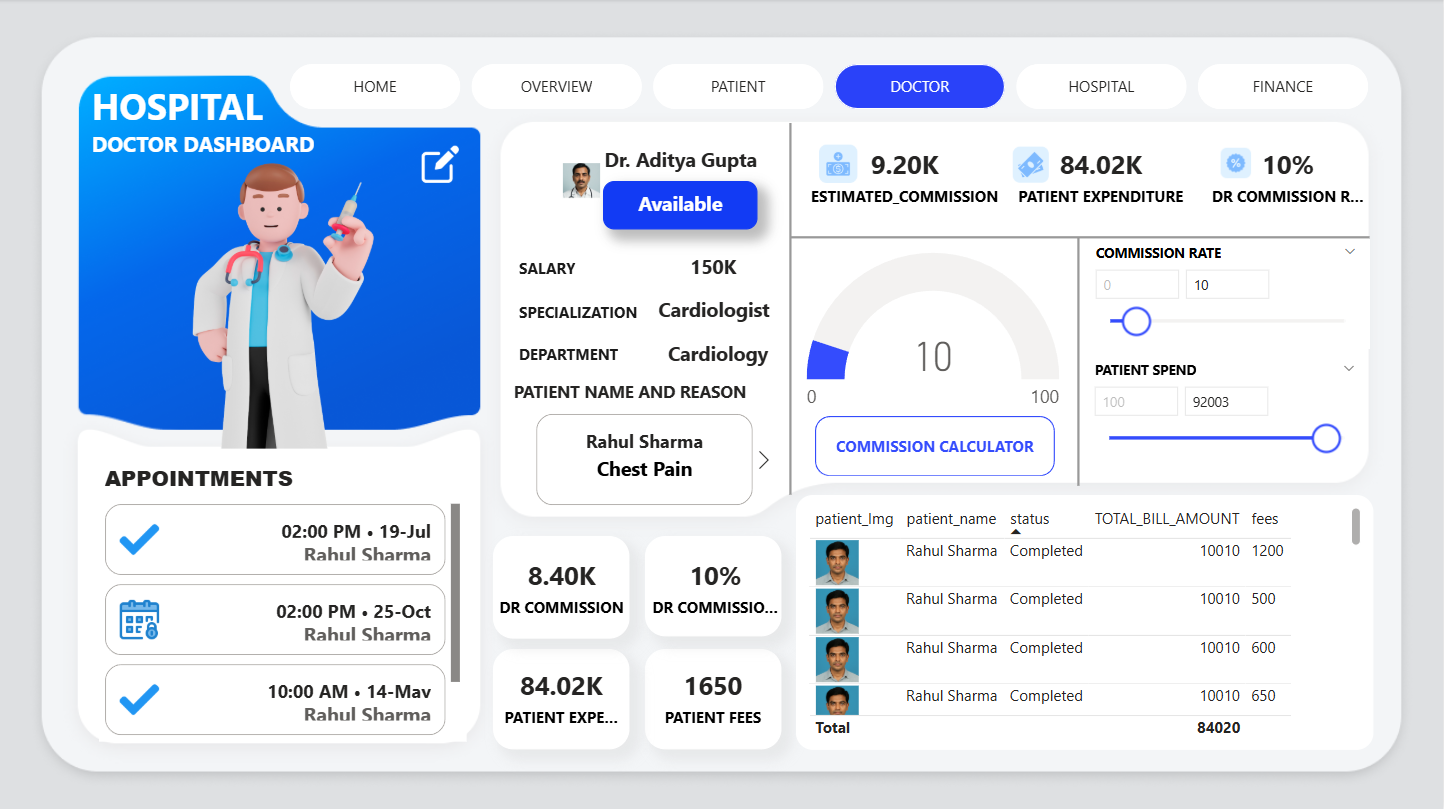

What the dashboard file says about the page in this screenshot:
{"tool":"powerbi","page":{"name":"DOCTOR","canvas":[1280,720],"ordinal":3},"visuals":[{"type":"textbox","box":[76.6,67.5,221.8,101.2],"z":0,"group":"g1"},{"type":"image","box":[87.8,127.5,314,276],"z":0},{"type":"shape","title":"PATIENTS","box":[187.8,130.4,231.8,410],"z":0,"group":"g2"},{"type":"image","box":[369.4,124.9,42.8,43.8],"z":1000,"group":"g1"},{"type":"image","box":[368.7,129.5,39.1,66.4],"z":1000,"group":"g2"},{"type":"shape","box":[572.2,576.1,121.1,89.3],"z":1000},{"type":"advancedSlicerVisual","fields":{"Values":["patient_details.doctor_name"]},"box":[195.1,189.5,224.5,344.5],"z":2000,"group":"g2"},{"type":"shape","box":[437,576.1,121.1,89.3],"z":2000},{"type":"textbox","box":[195.1,143.1,99.1,40],"z":3000,"group":"g2"},{"type":"shape","box":[436.8,476.5,121,91],"z":3000},{"type":"group","id":"g1","title":"Group 1","box":[76.6,67.5,335.6,101.2],"z":4000},{"type":"shape","box":[572.2,476.2,121.1,89.3],"z":5000},{"type":"card","fields":{"Values":["_MEASURES.TOTAL_BILL_AMOUNT"]},"box":[437.2,577,120.9,82.6],"z":6000},{"type":"card","fields":{"Values":["_MEASURES.DOCTOR_FEES"]},"box":[570.2,583.1,124,69.5],"z":7000},{"type":"card","fields":{"Values":["_MEASURES.DR_COMMISSION RATE"]},"box":[570.2,480.3,128,79.6],"z":8000},{"type":"card","fields":{"Values":["_MEASURES.DR_COMMISSION_AMT"]},"box":[436.9,485.8,121.5,70],"z":9000},{"type":"cardVisual","fields":{"Data":["Min(patient_details.doctor_Img)"]},"box":[444.8,97.5,104,127],"z":10000},{"type":"card","fields":{"Values":["Min(patient_details.doctor_availability)"]},"box":[534.8,161.5,137,43],"z":11000},{"type":"shape","box":[460.4,218.2,71.6,41.3],"z":12000},{"type":"shape","box":[460.4,294.8,91.7,41.3],"z":13000},{"type":"shape","box":[460.4,261.6,111.9,31.2],"z":14000},{"type":"card","fields":{"Values":["Min(patient_details.doctor_salary)"]},"box":[554.1,221.2,156.2,35.3],"z":15000},{"type":"card","fields":{"Values":["Min(patient_details.doctor_specialization)"]},"box":[559.1,259.5,147.1,35.3],"z":16000},{"type":"card","fields":{"Values":["Min(patient_details.doctor_department)"]},"box":[563.2,297.8,147.1,36.3],"z":17000},{"type":"card","fields":{"Values":["Min(patient_details.doctor_name)"]},"box":[524.9,126.5,157.2,35.3],"z":18000},{"type":"advancedSlicerVisual","title":"APPOINTMENTS","fields":{"Values":["appointment.Appointment_Time_Date"]},"box":[87.4,410.7,325.5,247.9],"z":19000},{"type":"group","id":"g2","title":"PATIENTS SLICER","box":[187.8,129.5,232,411],"z":20000},{"type":"advancedSlicerVisual","title":"PATIENT NAME AND REASON","fields":{"Values":["patient_details.patient_name"]},"box":[450.3,338.1,242.9,116.9],"z":21000},{"type":"tableEx","fields":{"Values":["patient_details.patient_Img","patient_details.patient_name","appointment.status","_MEASURES.TOTAL_BILL_AMOUNT","appointment.fees"]},"box":[706,440,512,226],"z":22000},{"type":"slicer","fields":{"Values":["ESTIMATED_PATIENT AMOUNT.ESTIMATED_PATIENT AMOUNT"]},"box":[958,316,256,116],"z":23000},{"type":"slicer","fields":{"Values":["ESTIMATED_COMMISSION_RATE.ESTIMATED_COMMISSION_RATE"]},"box":[958.2,212.2,256,97.8],"z":24000},{"type":"card","fields":{"Values":["_MEASURES.ESTIMATED_COMMISSION"]},"box":[713.3,110.4,178.4,92.7],"z":25000},{"type":"card","fields":{"Values":["_MEASURES.TOTAL_BILL_AMOUNT"]},"box":[896.8,115.4,159.2,82.6],"z":26000},{"type":"card","fields":{"Values":["_MEASURES.DR_COMMISSION RATE"]},"box":[1066.1,116.4,152.2,79.6],"z":27000},{"type":"gauge","fields":{"Y":["Max(ESTIMATED_COMMISSION_RATE.ESTIMATED_COMMISSION_RATE)"],"MaxValue":["_MEASURES.TARGET"]},"box":[709.8,219.2,234.1,155.2],"z":28000},{"type":"shape","box":[676,110.4,50.4,329.6],"z":29000},{"type":"shape","box":[701.2,191,513,41.3],"z":30000},{"type":"shape","box":[931,212.2,50.4,219.7],"z":31000},{"type":"shape","box":[722.4,369.4,212.7,53.4],"z":32000},{"type":"image","box":[718.4,124.5,49.4,44.3],"z":33000},{"type":"image","box":[1077.2,125.5,37.3,38.3],"z":34000},{"type":"image","box":[891.7,125.5,43.3,42.3],"z":35000},{"type":"pageNavigator","box":[257,57.4,957.5,40.3],"z":36000}]}

Visuals, with their boxes in screenshot pixels (x1, y1, x2, y2), scaled from the page's 1280x720 canvas onto the 1444x809 screenshot:
textbox: bbox=[86, 76, 337, 190]
image: bbox=[99, 143, 453, 453]
"PATIENTS" shape: bbox=[212, 147, 473, 607]
image: bbox=[417, 140, 465, 190]
image: bbox=[416, 146, 460, 220]
shape: bbox=[646, 647, 782, 748]
advancedSlicerVisual - patient_details.doctor_name: bbox=[220, 213, 473, 600]
shape: bbox=[493, 647, 630, 748]
textbox: bbox=[220, 161, 332, 206]
shape: bbox=[493, 535, 629, 638]
"Group 1" group: bbox=[86, 76, 465, 190]
shape: bbox=[646, 535, 782, 635]
card - _MEASURES.TOTAL_BILL_AMOUNT: bbox=[493, 648, 630, 741]
card - _MEASURES.DOCTOR_FEES: bbox=[643, 655, 783, 733]
card - _MEASURES.DR_COMMISSION RATE: bbox=[643, 540, 788, 629]
card - _MEASURES.DR_COMMISSION_AMT: bbox=[493, 546, 630, 625]
cardVisual - Min(patient_details.doctor_Img): bbox=[502, 110, 619, 252]
card - Min(patient_details.doctor_availability): bbox=[603, 181, 758, 230]
shape: bbox=[519, 245, 600, 292]
shape: bbox=[519, 331, 623, 378]
shape: bbox=[519, 294, 646, 329]
card - Min(patient_details.doctor_salary): bbox=[625, 249, 801, 288]
card - Min(patient_details.doctor_specialization): bbox=[631, 292, 797, 331]
card - Min(patient_details.doctor_department): bbox=[635, 335, 801, 375]
card - Min(patient_details.doctor_name): bbox=[592, 142, 769, 182]
"APPOINTMENTS" advancedSlicerVisual: bbox=[99, 461, 466, 740]
"PATIENTS SLICER" group: bbox=[212, 146, 474, 607]
"PATIENT NAME AND REASON" advancedSlicerVisual: bbox=[508, 380, 782, 511]
tableEx - patient_details.patient_Img x patient_details.patient_name: bbox=[796, 494, 1374, 748]
slicer - ESTIMATED_PATIENT AMOUNT.ESTIMATED_PATIENT AMOUNT: bbox=[1081, 355, 1370, 485]
slicer - ESTIMATED_COMMISSION_RATE.ESTIMATED_COMMISSION_RATE: bbox=[1081, 238, 1370, 348]
card - _MEASURES.ESTIMATED_COMMISSION: bbox=[805, 124, 1006, 228]
card - _MEASURES.TOTAL_BILL_AMOUNT: bbox=[1012, 130, 1191, 222]
card - _MEASURES.DR_COMMISSION RATE: bbox=[1203, 131, 1374, 220]
gauge - Max(ESTIMATED_COMMISSION_RATE.ESTIMATED_COMMISSION_RATE) x _MEASURES.TARGET: bbox=[801, 246, 1065, 421]
shape: bbox=[763, 124, 819, 494]
shape: bbox=[791, 215, 1370, 261]
shape: bbox=[1050, 238, 1107, 485]
shape: bbox=[815, 415, 1055, 475]
image: bbox=[810, 140, 866, 190]
image: bbox=[1215, 141, 1257, 184]
image: bbox=[1006, 141, 1055, 189]
pageNavigator: bbox=[290, 64, 1370, 110]
